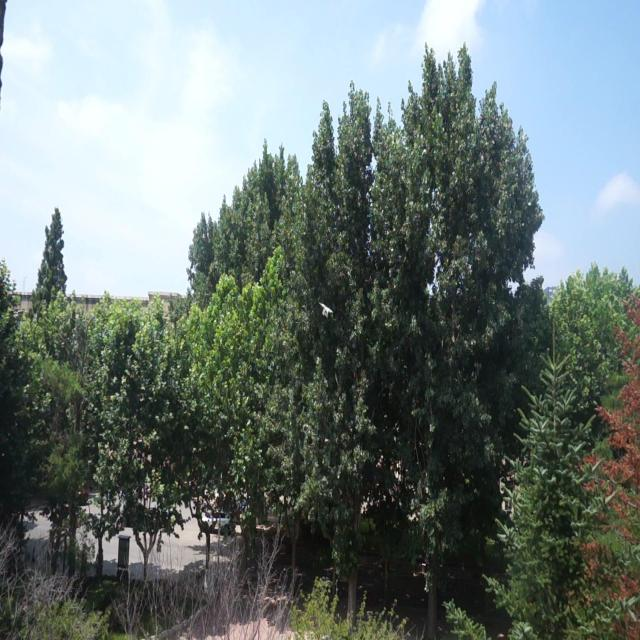drone: (317, 298, 333, 323)
